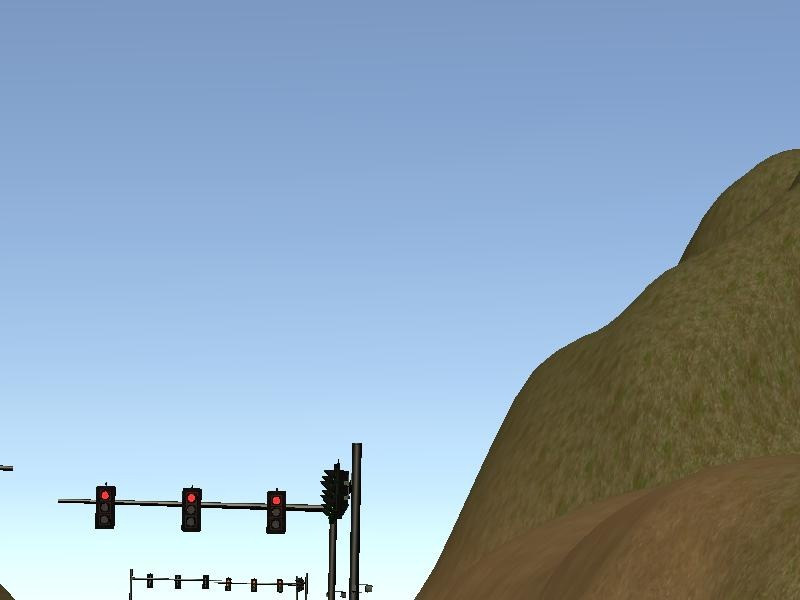red: (265, 486, 286, 533), (180, 486, 201, 530), (94, 486, 115, 528)
